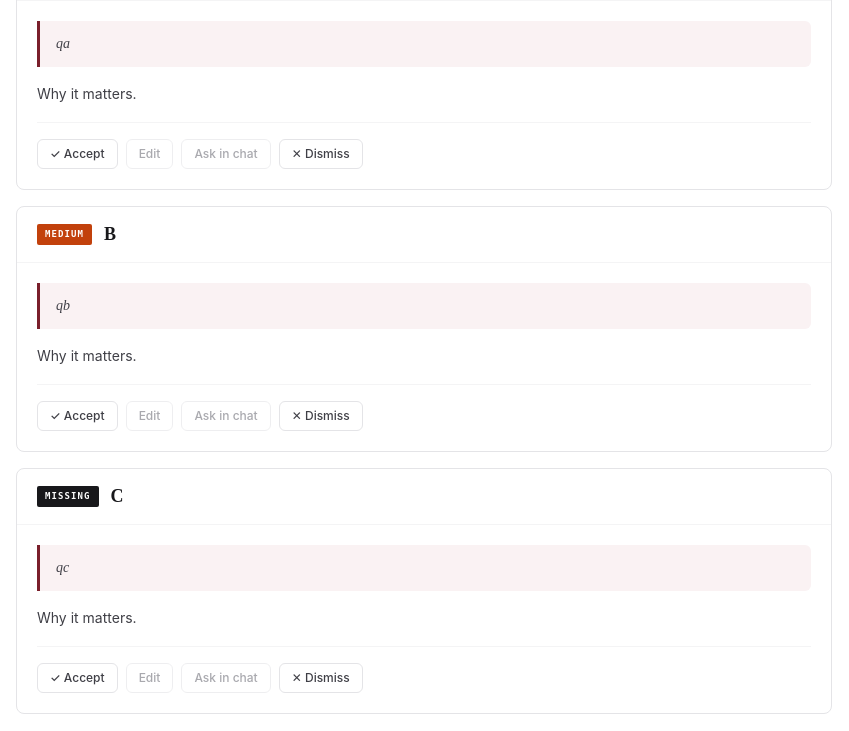
<Findings /> › dismiss hides the card from the rendered list
(page scrolled)
Step 1. Click the button with test id "finding-dismiss" → [321, 416], box x1=279 y1=401 x2=363 y2=431
(page scrolled)
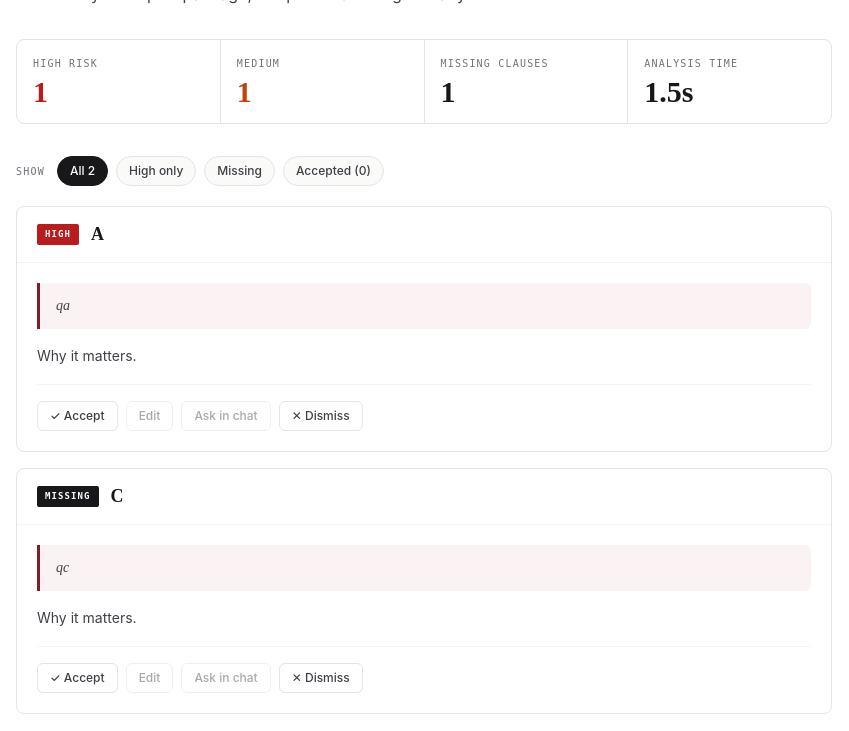
Expected: the text "B" is not shown
Expected: the number of elements with test id "finding-card" is 2, x1=16 y1=206 x2=832 y2=452; x1=16 y1=468 x2=832 y2=714
